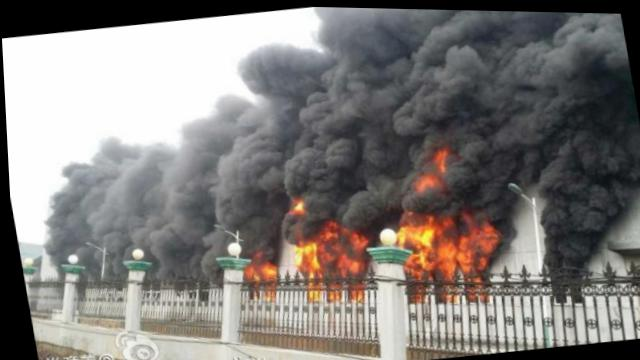fire: (406, 213, 458, 274), (317, 227, 372, 277), (454, 221, 498, 272), (290, 237, 321, 272), (411, 168, 444, 190), (244, 258, 275, 278), (429, 141, 449, 168), (395, 221, 412, 244), (291, 196, 305, 210)
